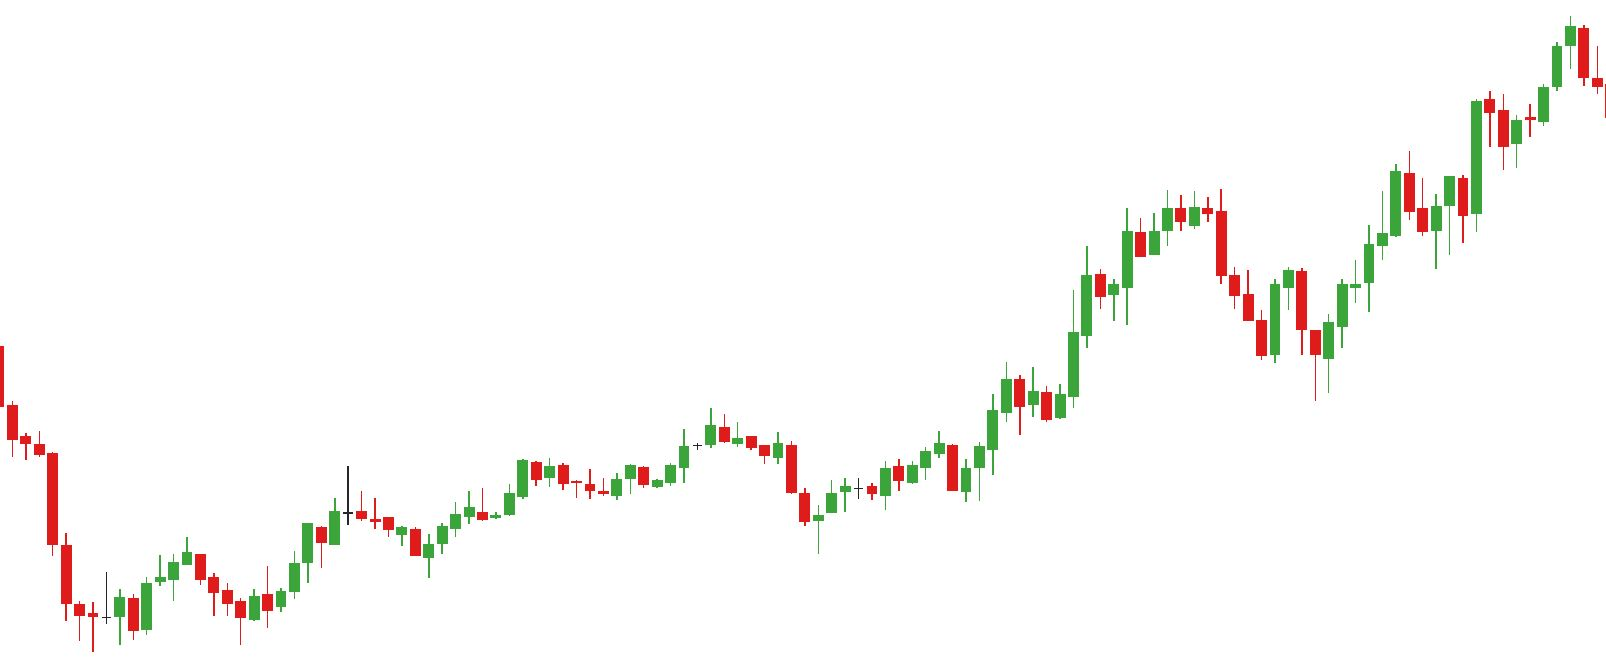buy: (600, 446, 838, 557), (124, 582, 260, 653), (1255, 307, 1337, 410)
